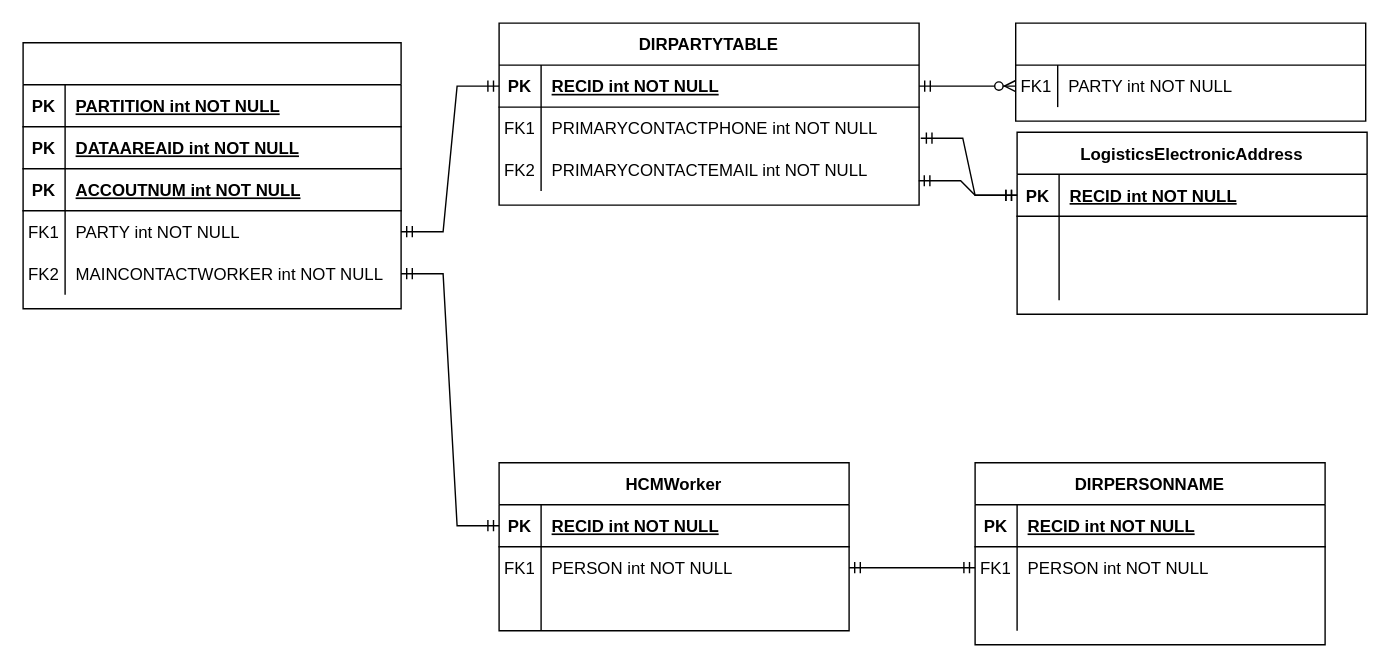
This 1390x668 diagram has some shape labels left out. The shapes that lost their labels are listed below. From the top down, each one's box as (x1, y1, x2, y2) in pixels, then its label:
(1014, 22, 1366, 121): DIRPARTYPOSTALADDRESSVIEW
(22, 41, 401, 309): CUSTTABLE
